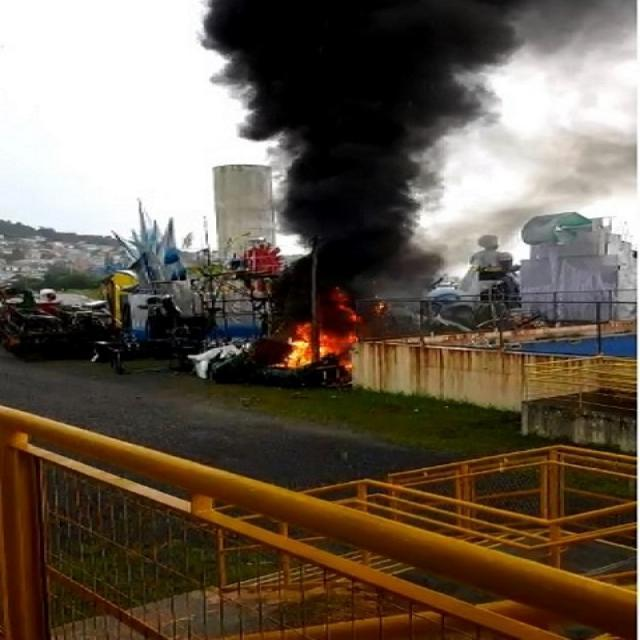Fire: (276, 294, 381, 374)
Smoke: (213, 0, 522, 134), (277, 139, 435, 294), (534, 129, 640, 196), (438, 202, 552, 264), (526, 1, 639, 57)
